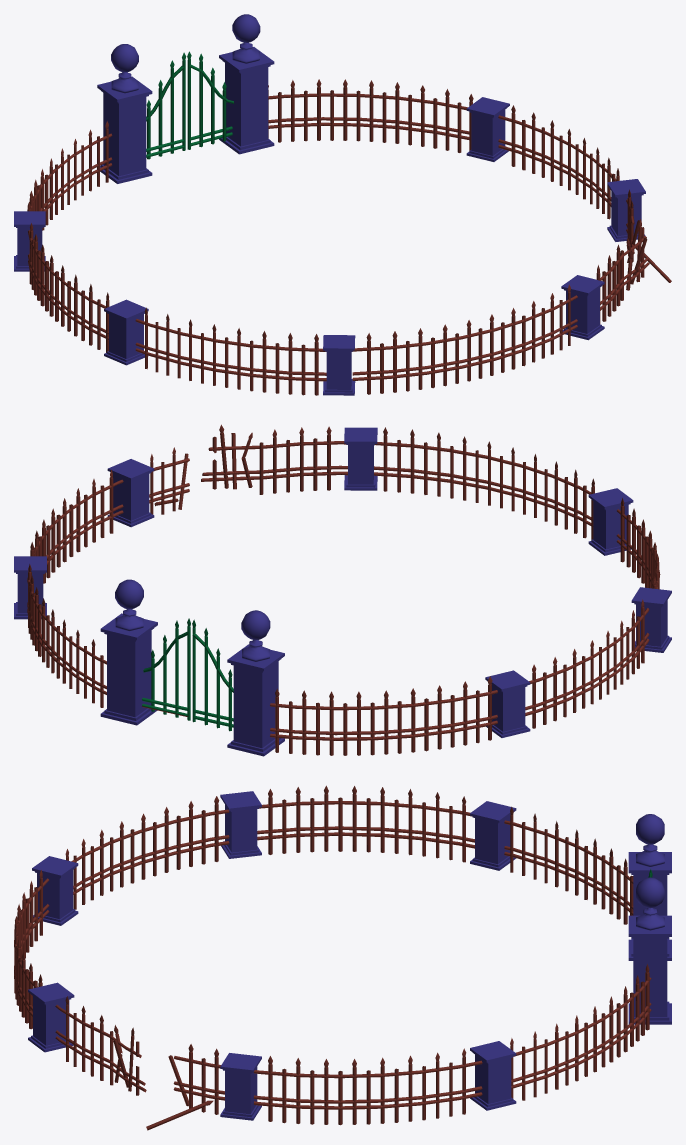
The model's file is rejas.fbx.
The picture shows the model from 3 angles, top to bottom: view 1: azimuth 30°, elevation 25°; view 2: azimuth 150°, elevation 25°; view 3: azimuth 270°, elevation 25°; orthographic projection. The views are drawn at different scales.
Visible parts, largest first — view 1: polySurface267, polySurface217, polySurface357; view 2: polySurface267, polySurface217, polySurface357; view 3: polySurface267.
Part boxes in pixels (x1,y1,x2,y2): polySurface267: [14, 14, 671, 395]; polySurface217: [187, 51, 234, 149]; polySurface357: [146, 52, 186, 159]; polySurface267: [14, 424, 671, 756]; polySurface217: [142, 618, 190, 720]; polySurface357: [192, 619, 233, 731]; polySurface267: [14, 785, 671, 1130].
Bounding box in the file's own units: 11.44 × 2.91 × 11.39.
